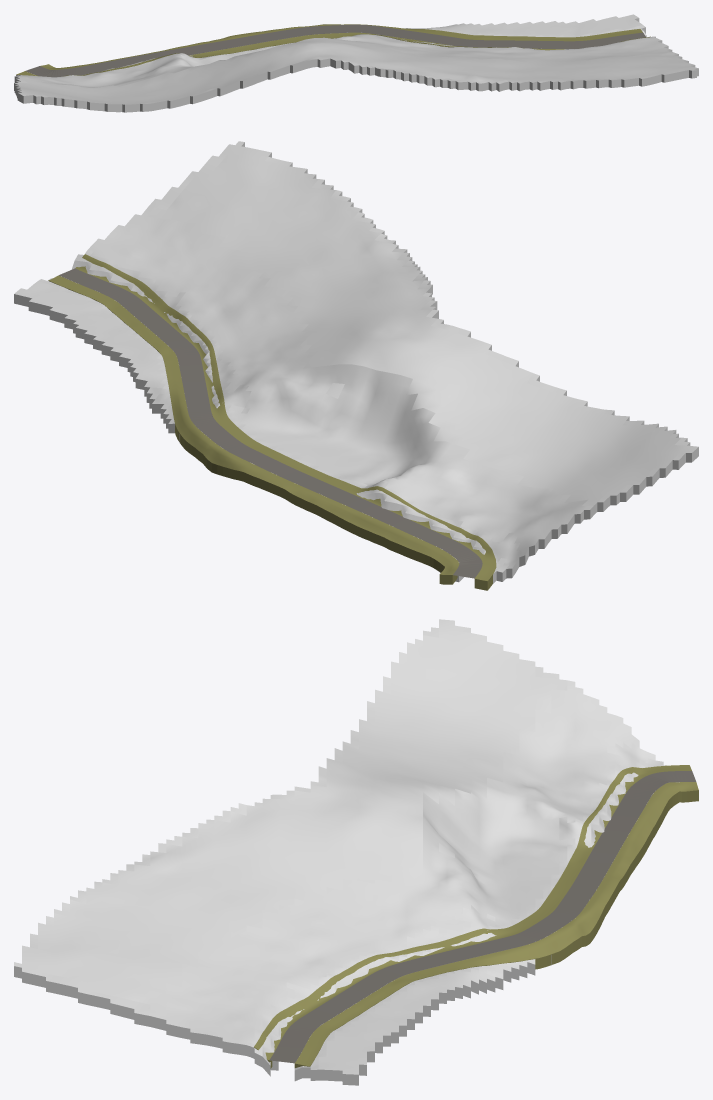
File: conz_101.glb
3 renders of one model, top to bottom at view 1: azimuth 30°, elevation 25°; view 2: azimuth 150°, elevation 25°; view 3: azimuth 270°, elevation 25°, orthographic. The views are drawn at different scales.
Visible parts, largest first — view 1: terrain101, road101, verge101L, verge101R; view 2: terrain101, verge101L, road101, verge101R; view 3: terrain101, road101, verge101L, verge101R.
Boxes of the visible parts, <box> form: terrain101: <box>14,14,698,112</box>; road101: <box>25,24,645,77</box>; verge101L: <box>40,24,642,69</box>; verge101R: <box>16,32,650,76</box>; terrain101: <box>14,141,698,583</box>; verge101L: <box>48,275,459,584</box>; road101: <box>59,268,482,578</box>; verge101R: <box>75,254,496,590</box>; terrain101: <box>14,619,679,1085</box>; road101: <box>269,771,696,1063</box>; verge101L: <box>294,782,698,1067</box>; verge101R: <box>253,765,691,1068</box>.
Size of the model in its own units: 236 by 32.12 by 171.
